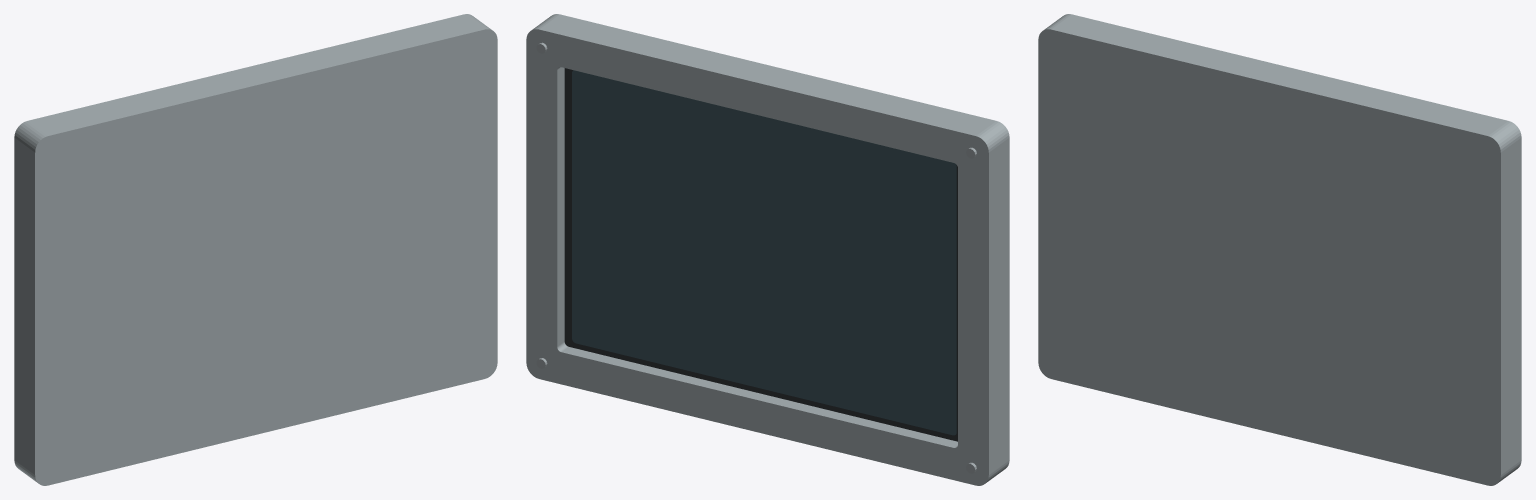
3 views of the same model, side by side, from view 1: azimuth 30°, elevation 25°; view 2: azimuth 150°, elevation 25°; view 3: azimuth 330°, elevation 25° (orthographic).
Visible parts, largest first — view 1: component.root.mesh; view 2: component.root.mesh; view 3: component.root.mesh.
Boxes of the visible parts, bbox=[...] form: component.root.mesh: bbox=[14, 14, 497, 485]; component.root.mesh: bbox=[526, 14, 1009, 485]; component.root.mesh: bbox=[1038, 14, 1521, 485].
Size of the model in its own units: 0.9 by 0.65 by 0.076.
